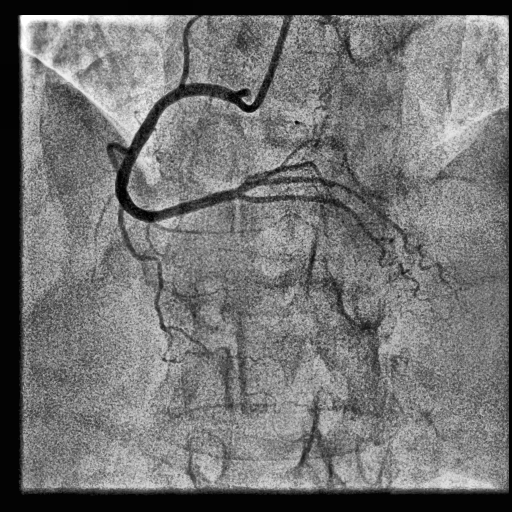pborca: (237, 177, 409, 248)
pda: (239, 194, 421, 297)
rca: (116, 84, 237, 223)
